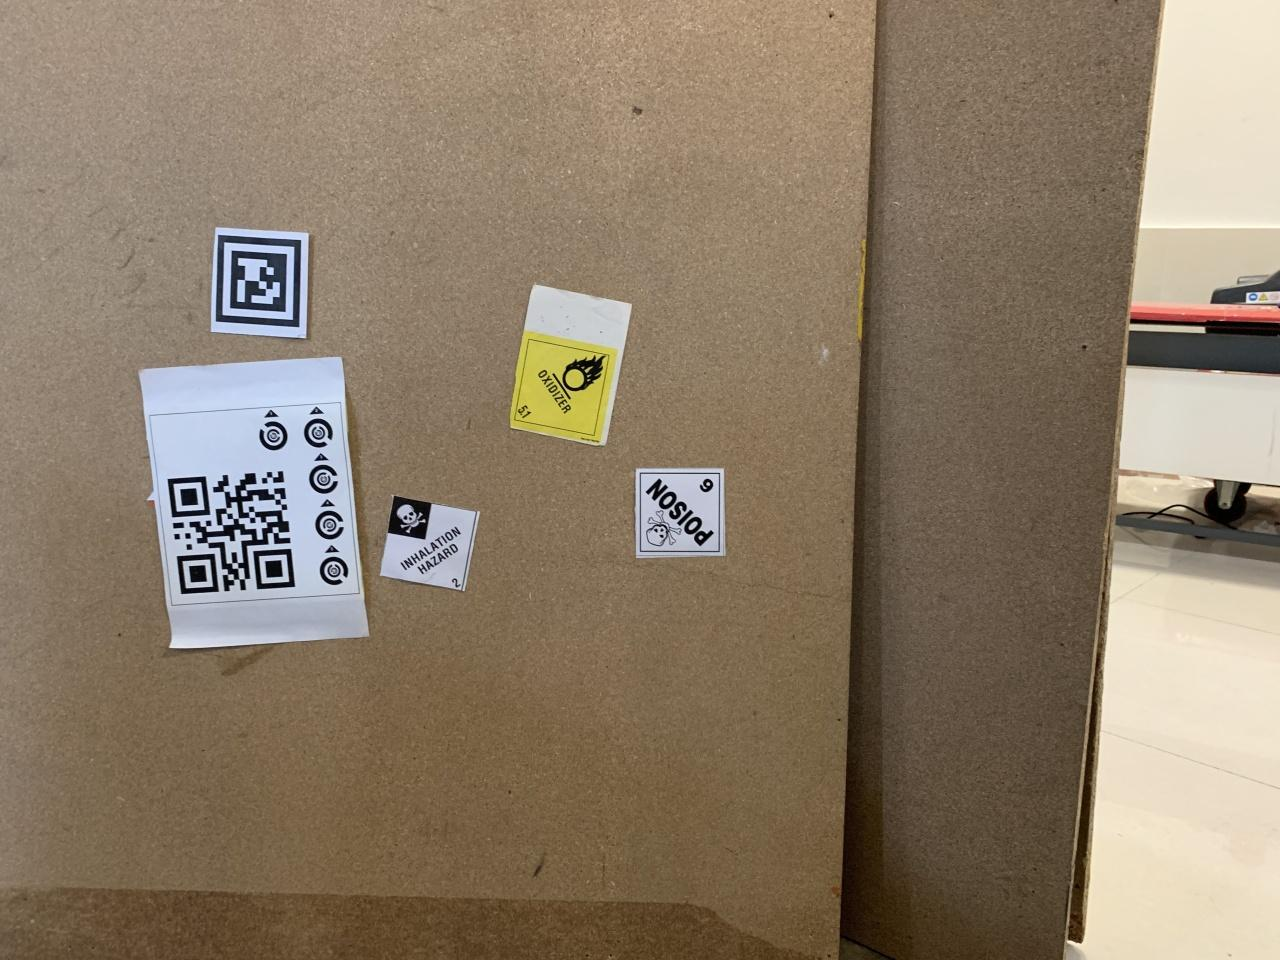oxidizer: (505, 333, 615, 441)
poison: (380, 496, 477, 592), (639, 470, 722, 555)
